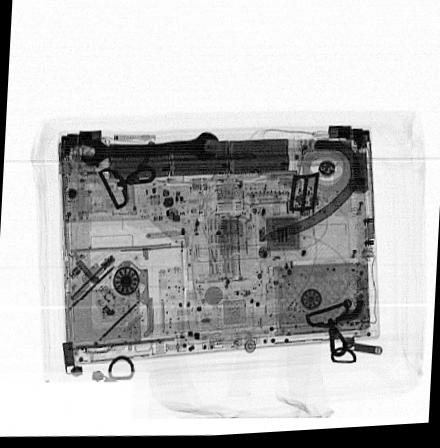Wrench: (78, 132, 220, 168)
